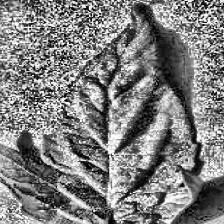spider mites: (0, 5, 201, 224)
